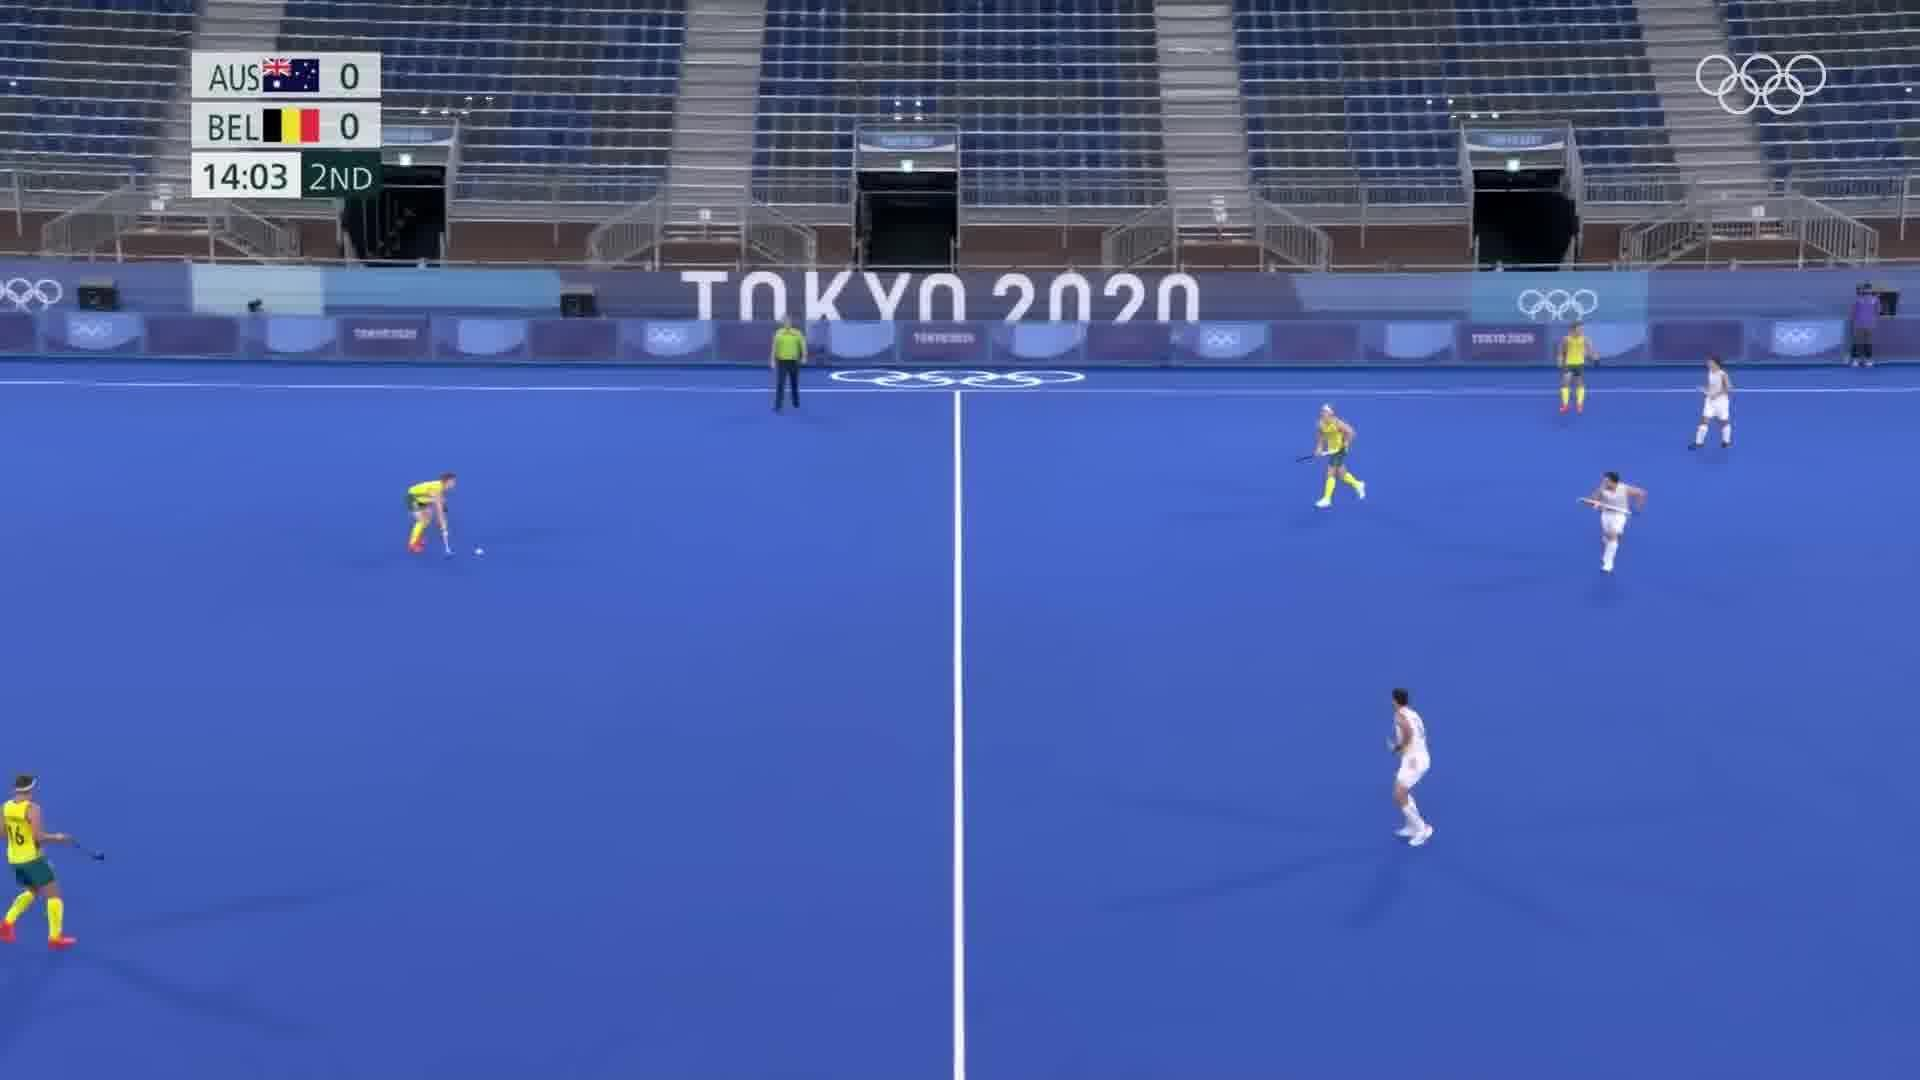ball: (468, 541, 490, 558)
